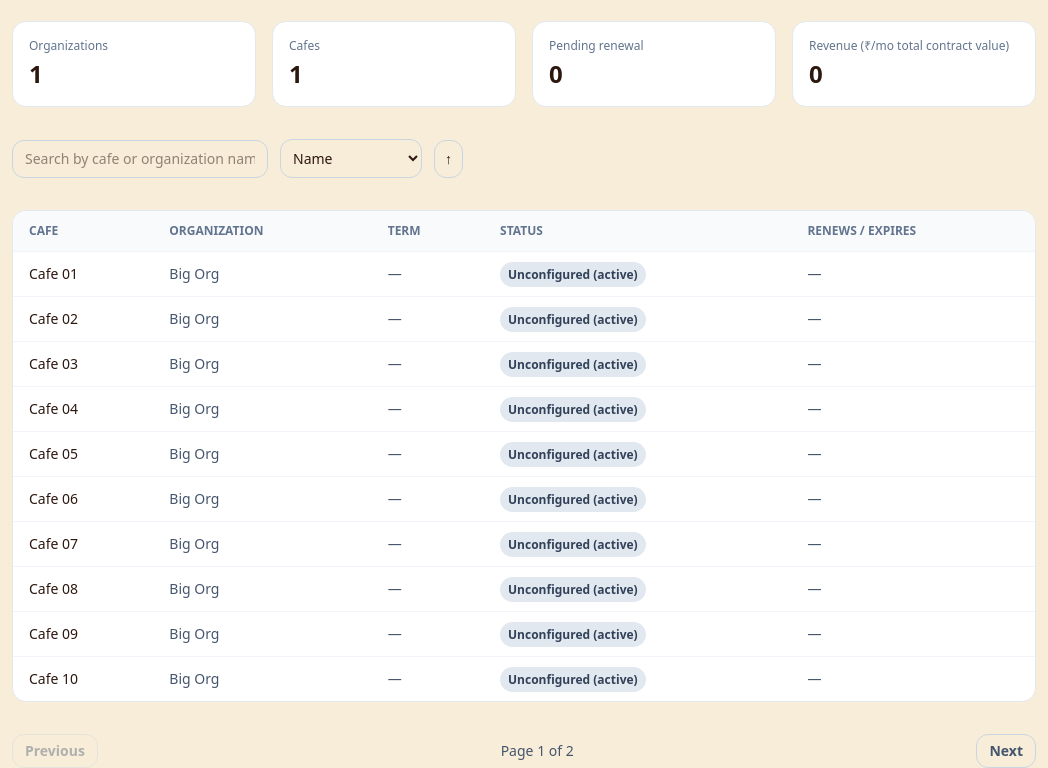
AdminOverviewPage › paginates beyond the first page and disables Prev/Next at the boundaries
(page scrolled)
Expected: the text "Cafe 01" is shown, [13,252,153,296]
Expected: the text "Cafe 11" is not shown
Step 1. Click the button "Next" → x=1006, y=751, box [976,734,1036,767]
(page scrolled)
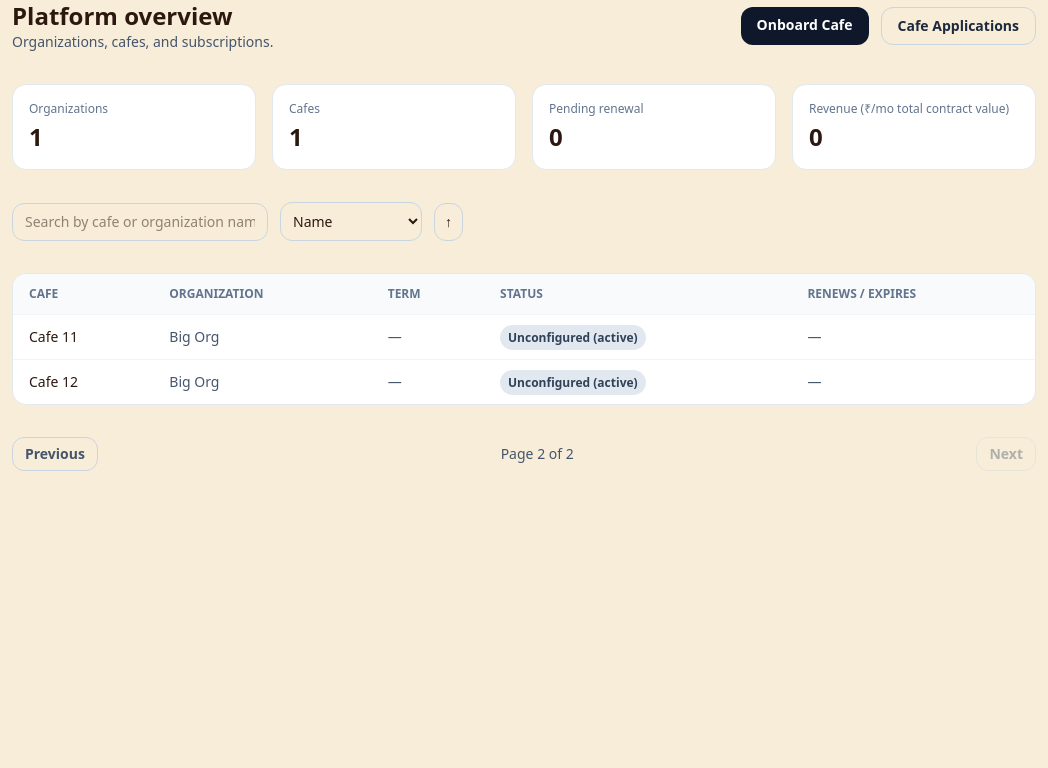
Now the text "Cafe 11" is shown, box [13,314,153,360]
Now the text "Cafe 01" is gone
Now the button "Next" is disabled, box [976,437,1036,471]
